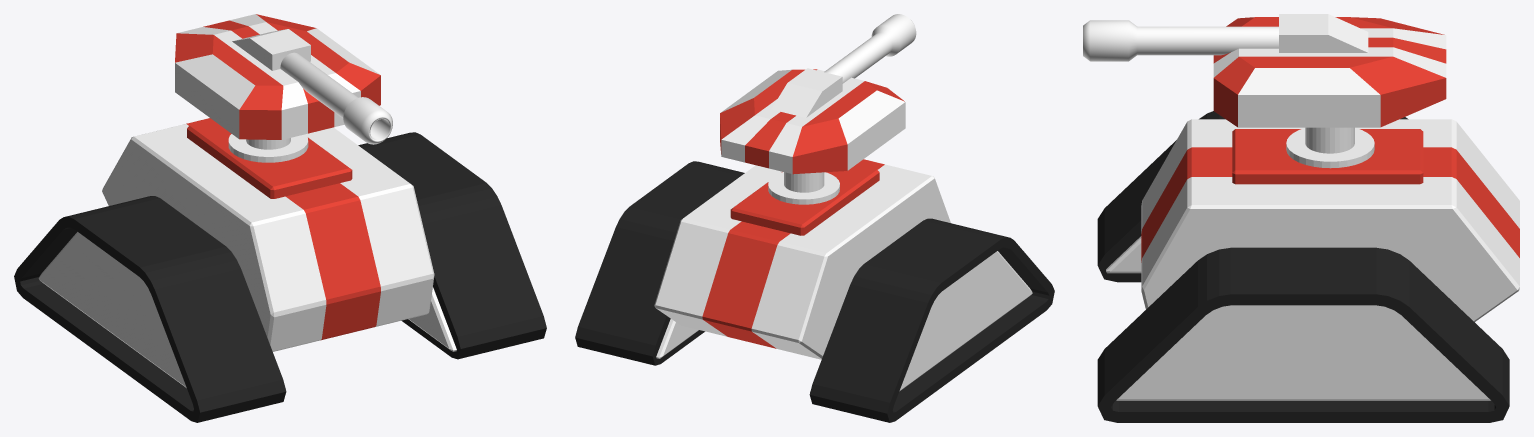
File: tank.fbx
3 renders of one model, left to right at view 1: azimuth 30°, elevation 25°; view 2: azimuth 150°, elevation 25°; view 3: azimuth 270°, elevation 25°, orthographic. The views are drawn at different scales.
Parts seen in each view (by area): view 1: Cube.004, Cube.005; view 2: Cube.004, Cube.005; view 3: Cube.004, Cube.005.
Part boxes in pixels (x1,y1,x2,y2): Cube.004: (14, 118, 546, 422); Cube.005: (175, 14, 392, 144); Cube.004: (575, 159, 1054, 422); Cube.005: (720, 14, 916, 174); Cube.004: (1097, 111, 1519, 422); Cube.005: (1083, 14, 1446, 127).
Size of the model in its own units: 293 by 224 by 289.
